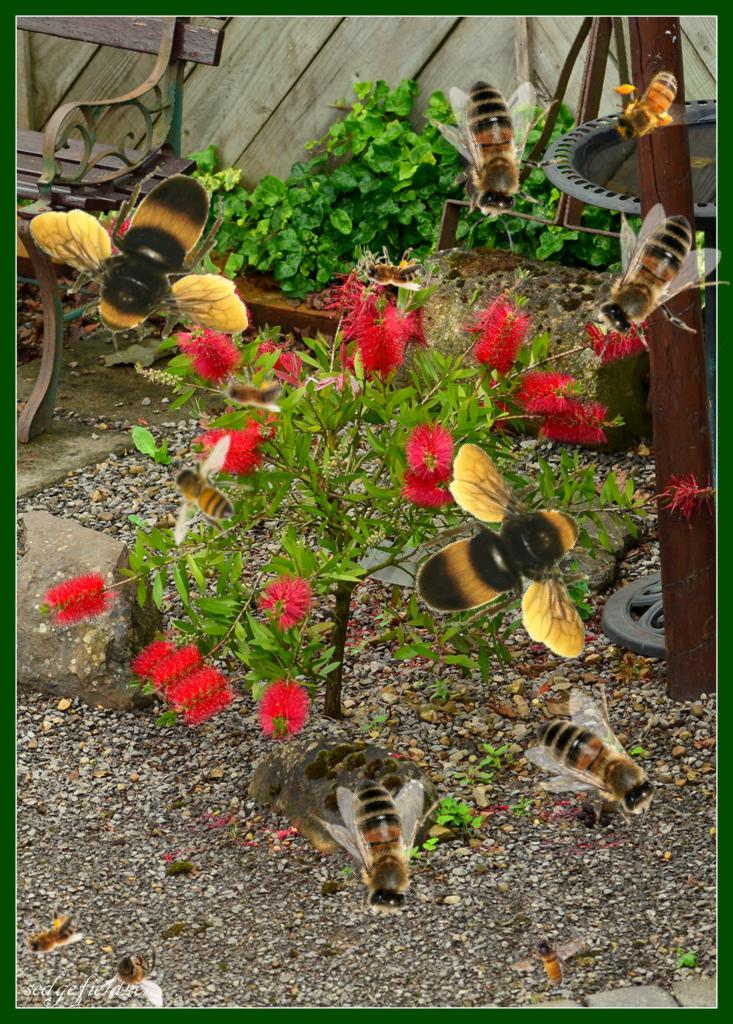Bee: (368, 419, 660, 704), (380, 39, 613, 273), (269, 737, 502, 971), (28, 166, 248, 357), (524, 682, 686, 849), (563, 203, 730, 365), (594, 58, 706, 155), (160, 434, 254, 545), (7, 898, 87, 971), (102, 937, 163, 1007), (512, 934, 584, 987), (217, 367, 283, 412), (356, 246, 422, 291)
